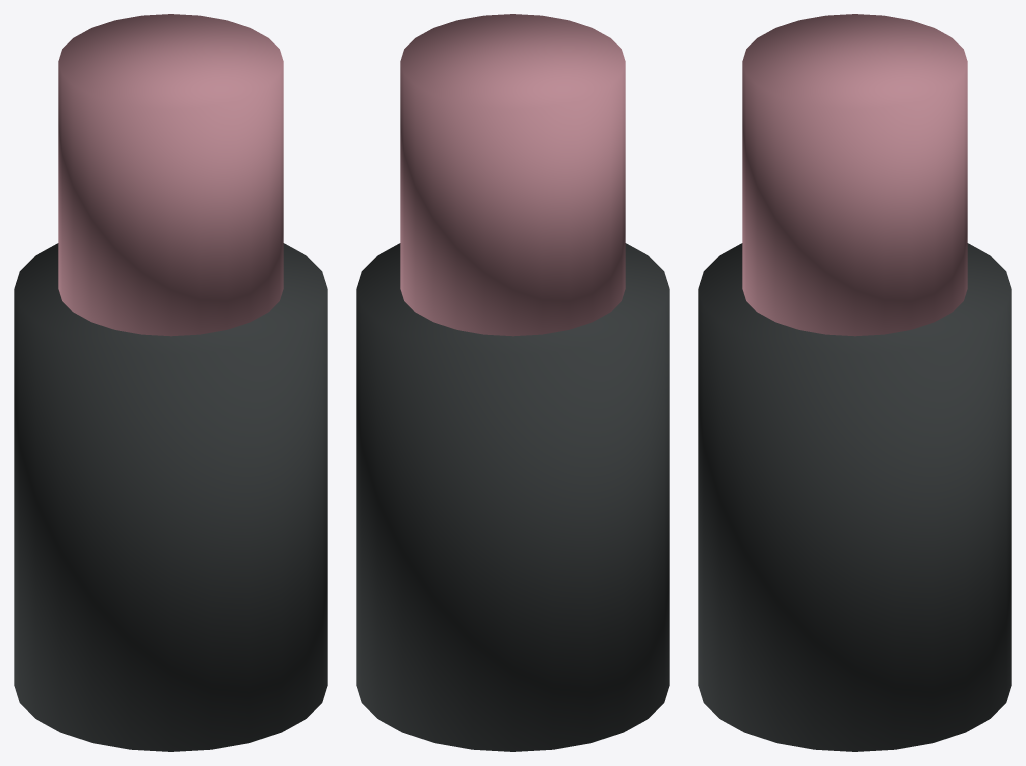
The model's file is sku_lipstick.glb.
The picture shows the model from 3 angles, left to right: view 1: azimuth 30°, elevation 25°; view 2: azimuth 150°, elevation 25°; view 3: azimuth 270°, elevation 25°; orthographic projection.
Parts seen in each view (by area): view 1: sku_lipstick_Anodised_graphite, sku_lipstick_FY21_rose; view 2: sku_lipstick_Anodised_graphite, sku_lipstick_FY21_rose; view 3: sku_lipstick_Anodised_graphite, sku_lipstick_FY21_rose.
Boxes of the visible parts, x1,y1,x2,y2 form: sku_lipstick_Anodised_graphite: (14, 243, 327, 751); sku_lipstick_FY21_rose: (58, 14, 283, 336); sku_lipstick_Anodised_graphite: (356, 243, 669, 751); sku_lipstick_FY21_rose: (400, 14, 625, 336); sku_lipstick_Anodised_graphite: (698, 243, 1011, 751); sku_lipstick_FY21_rose: (742, 14, 967, 336).
Bounding box in the file's own units: 0.05 × 0.11 × 0.05.
